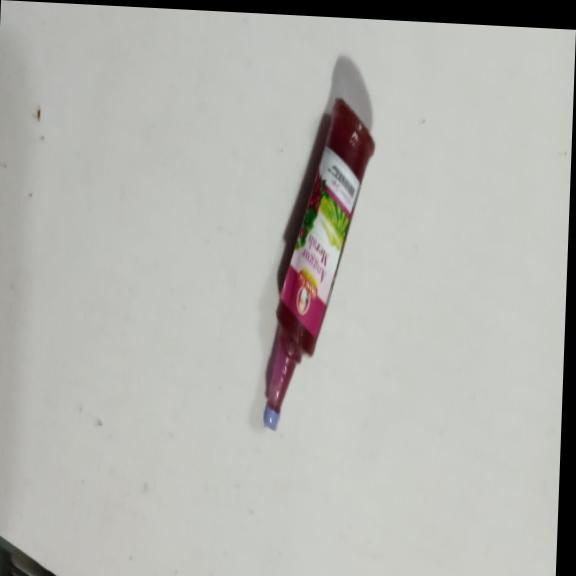Plastik: (260, 93, 376, 438)
